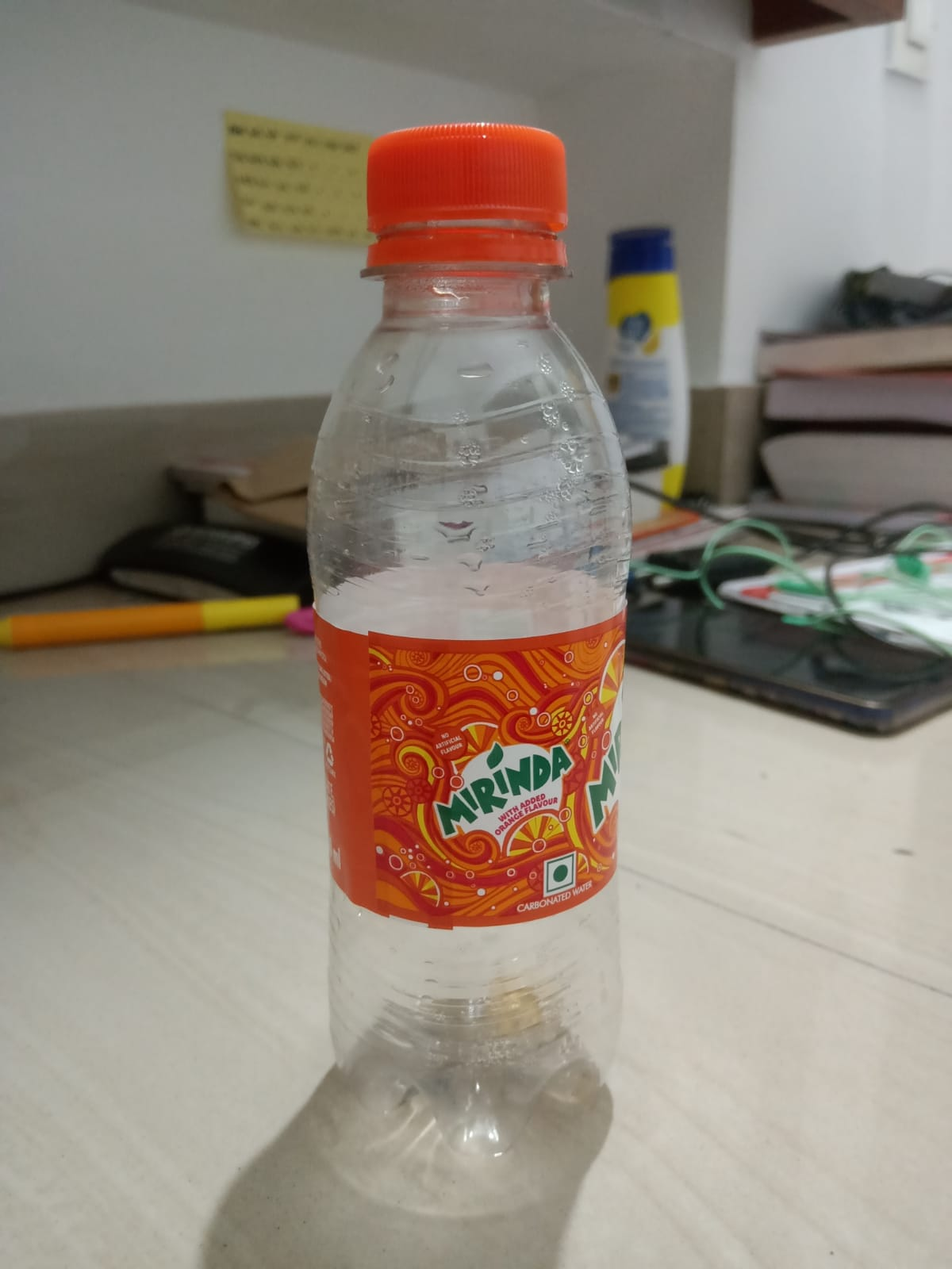plastic: (233, 122, 678, 1178)
